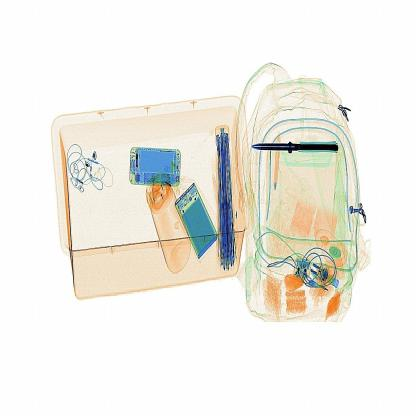gun: (236, 137, 347, 166)
